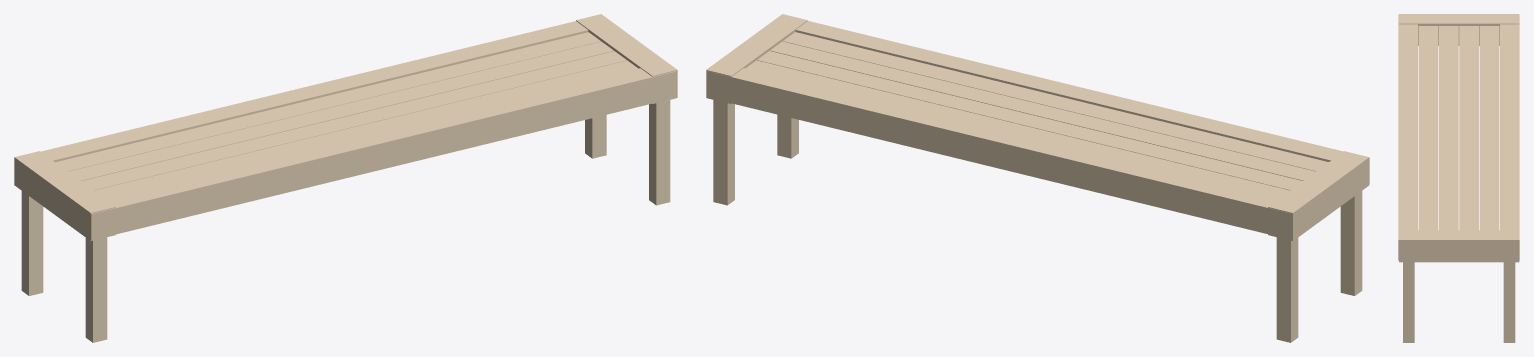
The model's file is sweethome3d-contributions-table-166.glb.
The picture shows the model from 3 angles, left to right: view 1: azimuth 30°, elevation 25°; view 2: azimuth 150°, elevation 25°; view 3: azimuth 270°, elevation 25°; orthographic projection. The views are drawn at different scales.
Parts seen in each view (by area): view 1: Cube_3_1, Cube_3, Cube_1_2, Cube_1_1, Cube_1_3, Cube_1, Cube_2, tableleg_2, tableleg_3, Cube_2_1, tableleg_1, tableleg; view 2: Cube_3, Cube_3_1, Cube_1_3, Cube_1_2, Cube_1, Cube_1_1, Cube_2, tableleg_1, tableleg, Cube_2_1, tableleg_2, tableleg_3; view 3: Cube_1, Cube_1_1, Cube_3_1, Cube_3, Cube_1_2, Cube_1_3, Cube_2_1, Cube_2, tableleg, tableleg_3.
Boxes of the visible parts, x1,y1,x2,y2 form: Cube_3_1: (78,68,676,240); Cube_3: (14,21,588,190); Cube_1_2: (68,41,613,180); Cube_1_1: (55,32,600,171); Cube_1_3: (81,51,626,190); Cube_1: (94,60,637,198); Cube_2: (14,151,115,240); tableleg_2: (85,237,107,342); tableleg_3: (649,100,670,205); Cube_2_1: (576,14,677,103); tableleg_1: (21,191,43,295); tableleg: (585,115,606,158); Cube_3: (707,68,1305,240); Cube_3_1: (795,21,1369,183); Cube_1_3: (770,41,1315,180); Cube_1_2: (757,51,1302,190); Cube_1: (783,32,1328,171); Cube_1_1: (746,60,1289,198); Cube_2: (1268,151,1369,240); tableleg_1: (1276,237,1298,342); tableleg: (713,100,734,205); Cube_2_1: (706,14,807,103); tableleg_2: (1340,191,1362,295); tableleg_3: (777,114,798,158); Cube_1: (1418,26,1438,230); Cube_1_1: (1479,26,1499,230); Cube_3_1: (1398,14,1417,260); Cube_3: (1500,15,1519,260); Cube_1_2: (1459,26,1478,230); Cube_1_3: (1439,26,1458,230); Cube_2_1: (1399,230,1519,262); Cube_2: (1399,14,1519,45); tableleg: (1503,262,1515,342); tableleg_3: (1403,262,1414,342).
Bounding box in the file's own units: 3.27 × 0.708 × 0.7418.
